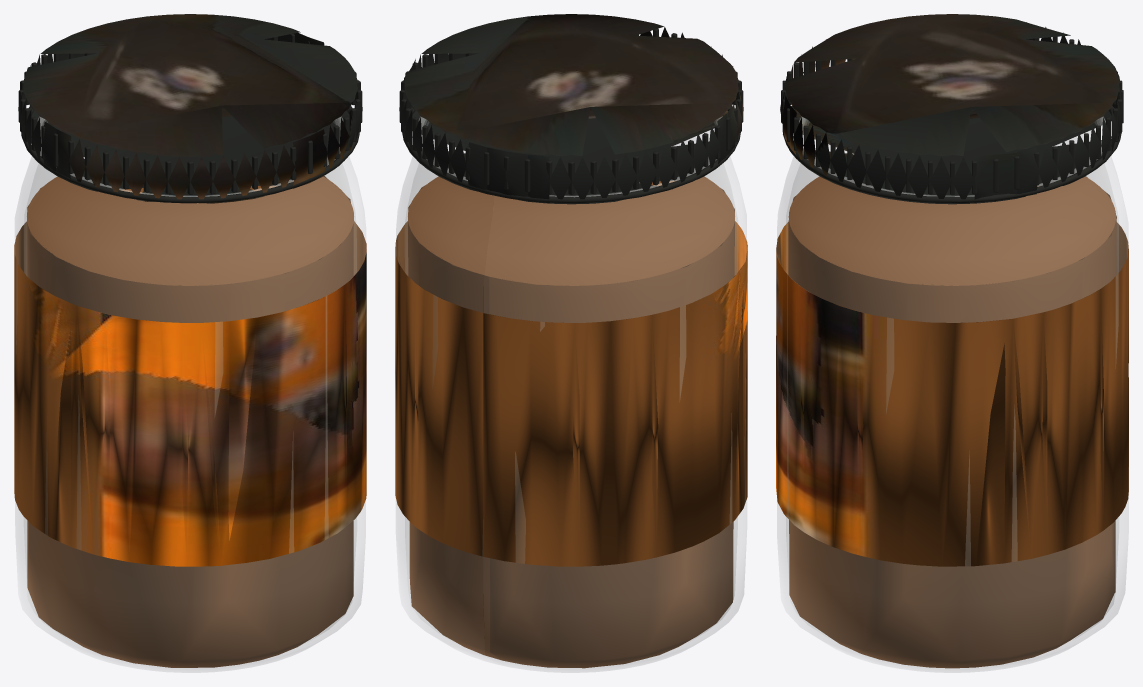
The picture shows the model from 3 angles, left to right: view 1: azimuth 30°, elevation 25°; view 2: azimuth 150°, elevation 25°; view 3: azimuth 270°, elevation 25°; orthographic projection.
Visible parts, largest first — view 1: profile-conforming printed label, thin shell with corrected shoulder, separate contents, removable closure, closure lower bead; view 2: profile-conforming printed label, thin shell with corrected shoulder, separate contents, removable closure, closure lower bead; view 3: profile-conforming printed label, thin shell with corrected shoulder, separate contents, removable closure, closure lower bead.
Part boxes in pixels (bbox=[...]): profile-conforming printed label: bbox=[14, 221, 366, 566]; thin shell with corrected shoulder: bbox=[15, 117, 365, 672]; separate contents: bbox=[27, 176, 353, 667]; removable closure: bbox=[18, 14, 362, 203]; closure lower bead: bbox=[21, 105, 359, 203]; profile-conforming printed label: bbox=[395, 221, 747, 566]; thin shell with corrected shoulder: bbox=[396, 117, 746, 672]; separate contents: bbox=[408, 176, 734, 668]; removable closure: bbox=[399, 14, 743, 204]; closure lower bead: bbox=[402, 106, 740, 203]; profile-conforming printed label: bbox=[776, 222, 1128, 566]; thin shell with corrected shoulder: bbox=[777, 117, 1128, 672]; separate contents: bbox=[788, 176, 1116, 668]; removable closure: bbox=[780, 14, 1123, 204]; closure lower bead: bbox=[783, 105, 1121, 203].
Bounding box in the file's own units: 0.0728 × 0.1237 × 0.0728.
Materials: 5 (2 with a texture image).
